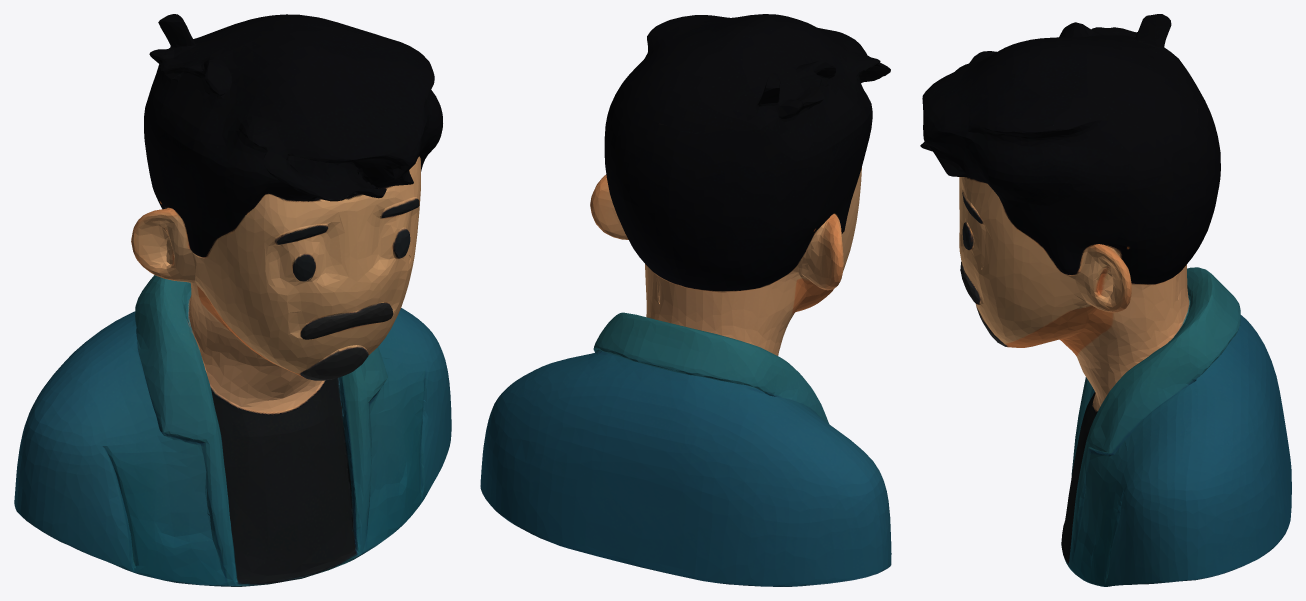
File: 9f138a96-7b7d-43d4-b017-c4128fdc8364.glb
The picture shows the model from 3 angles, left to right: view 1: azimuth 30°, elevation 25°; view 2: azimuth 150°, elevation 25°; view 3: azimuth 270°, elevation 25°; orthographic projection. The views are drawn at different scales.
Parts seen in each view (by area): view 1: world; view 2: world; view 3: world.
Boxes of the visible parts, <box> form: world: <box>14,14,451,586</box>; world: <box>480,14,891,586</box>; world: <box>920,14,1291,586</box>.
Bounding box in the file's own units: 0.568 × 0.7 × 0.4741.
1 material, 1 textured.
